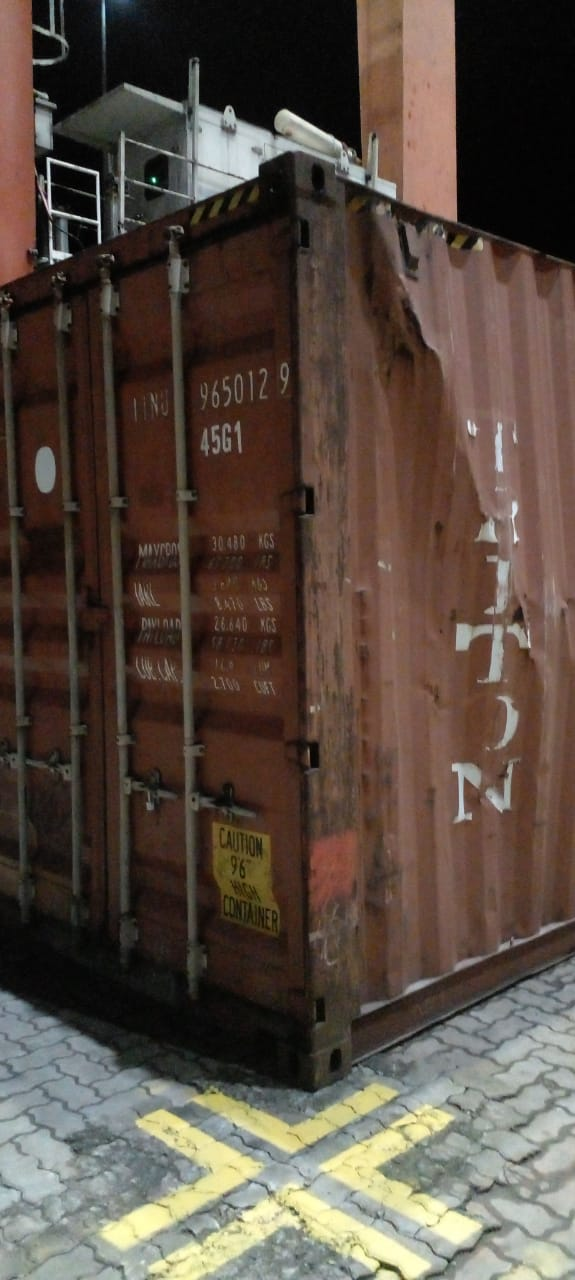bulged: (309, 244, 515, 699)
